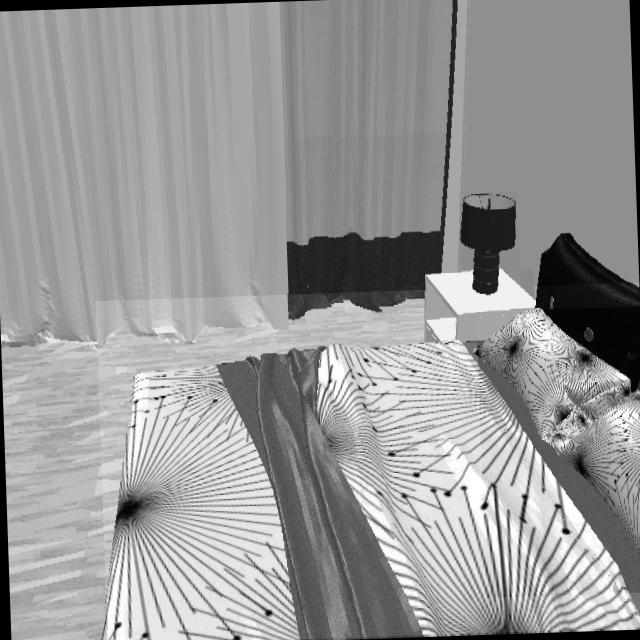bed: (107, 283, 640, 640)
lamp: (459, 193, 518, 301)
nighttable: (424, 272, 535, 342)
pillow: (477, 312, 640, 566)
